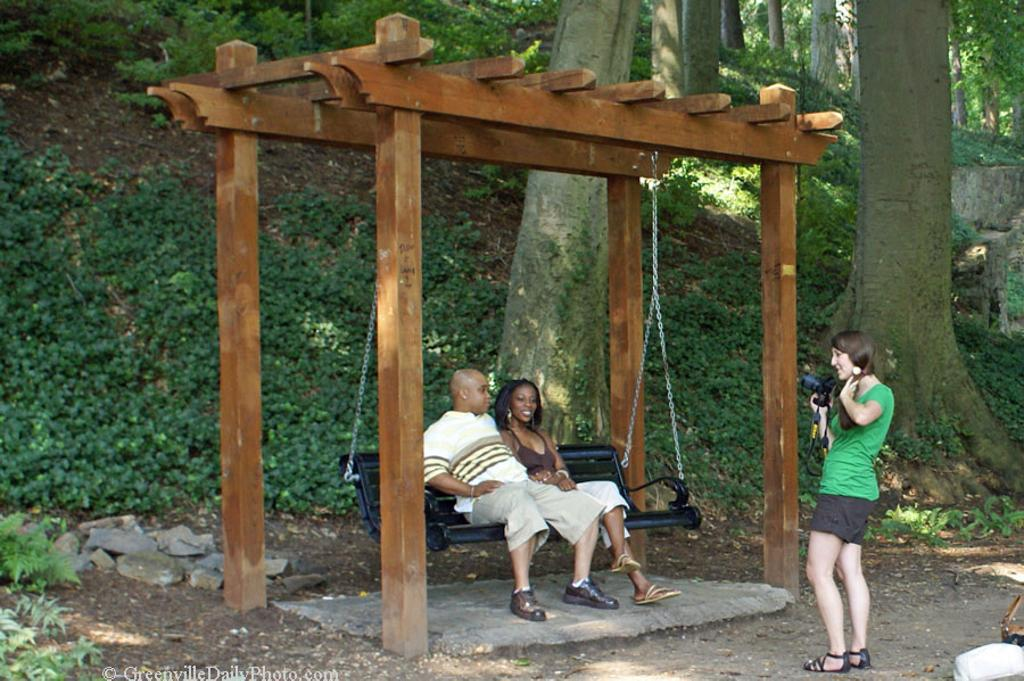face: (466, 373, 491, 411), (511, 385, 536, 421), (830, 344, 853, 380)
